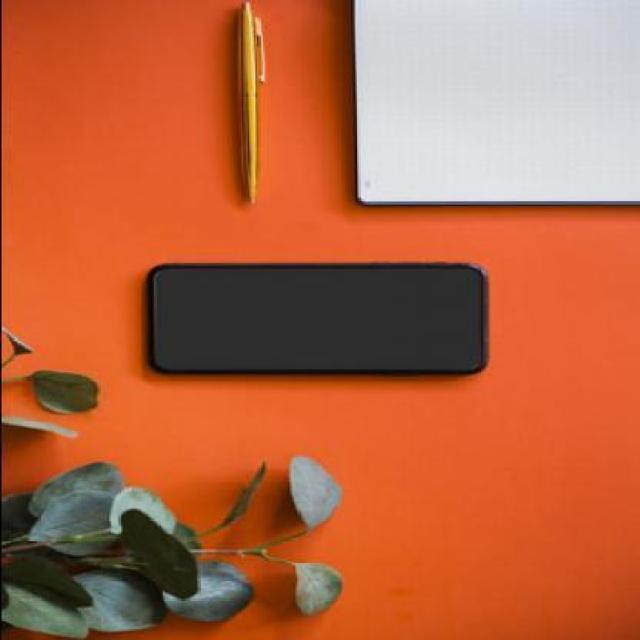cellphone: (150, 263, 487, 374)
